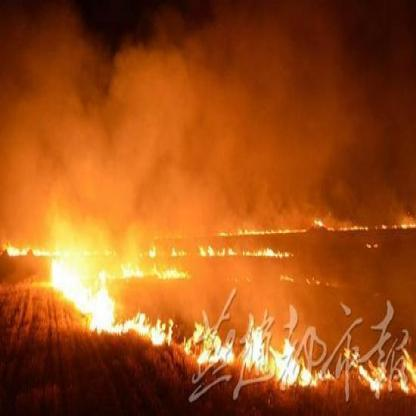fire: (11, 206, 412, 392)
smoke: (13, 12, 404, 204)
